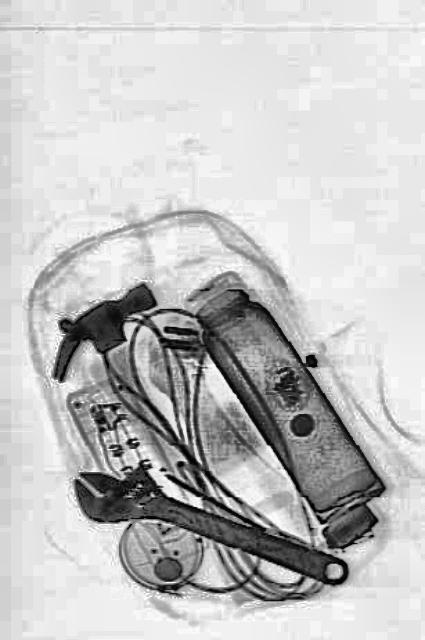Wrench: (67, 446, 353, 610)
